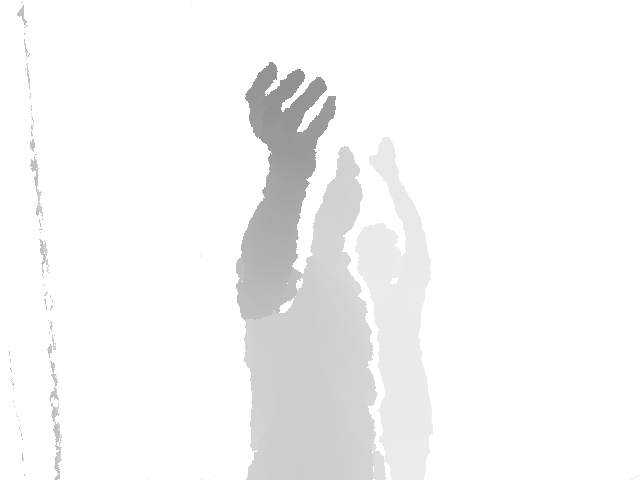hand: (244, 62, 337, 166), (367, 137, 401, 179)
head: (308, 146, 365, 235), (353, 222, 405, 285)
person: (234, 63, 390, 480), (353, 137, 435, 480)
